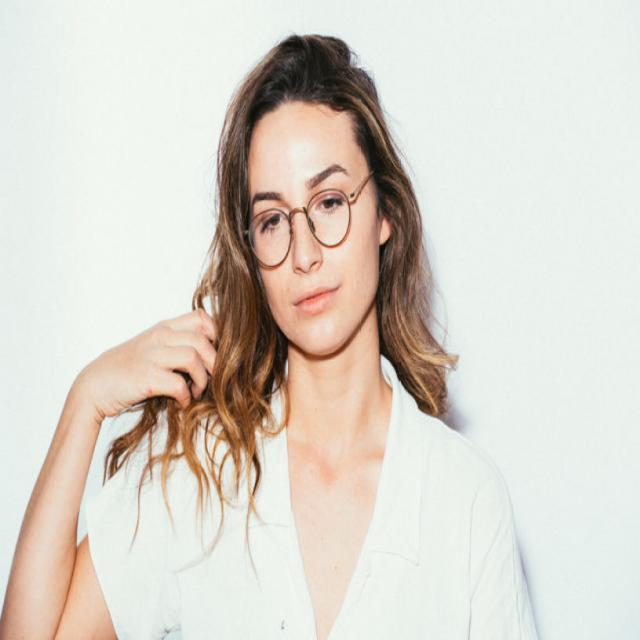Glasses: (246, 169, 371, 274)
